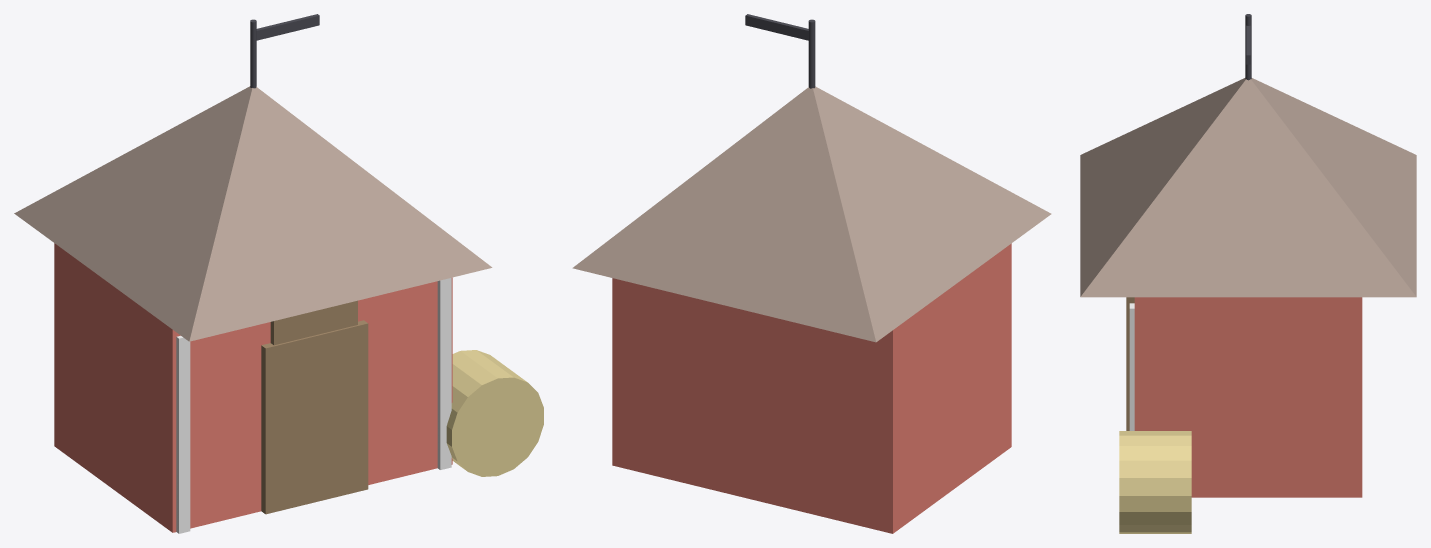
The model's file is barn.glb.
3 views of the same model, side by side, from view 1: azimuth 30°, elevation 25°; view 2: azimuth 150°, elevation 25°; view 3: azimuth 270°, elevation 25° (orthographic). The views are drawn at different scales.
Visible parts, largest first — view 1: BnRoof, BnBody, BnDoor, BnHay, BnTrim, BnTrimR, BnLoftWin, BnVaneArrow; view 2: BnBody, BnRoof, BnVaneArrow; view 3: BnRoof, BnBody, BnHay, BnTrimR, BnDoor.
Boxes of the visible parts, left/top/right/bottom form: BnRoof: left=14, top=86, right=492, bottom=341; BnBody: left=54, top=243, right=452, bottom=532; BnDoor: left=261, top=320, right=368, bottom=514; BnHay: left=446, top=350, right=543, bottom=476; BnTrim: left=176, top=335, right=190, bottom=533; BnTrimR: left=437, top=278, right=451, bottom=469; BnLoftWin: left=270, top=300, right=357, bottom=345; BnVaneArrow: left=256, top=14, right=319, bottom=40; BnBody: left=612, top=243, right=1011, bottom=533; BnRoof: left=572, top=86, right=1051, bottom=342; BnVaneArrow: left=745, top=14, right=808, bottom=40; BnRoof: left=1080, top=78, right=1416, bottom=297; BnBody: left=1134, top=297, right=1362, bottom=497; BnHay: left=1119, top=431, right=1191, bottom=533; BnTrimR: left=1129, top=303, right=1134, bottom=430; BnDoor: left=1126, top=297, right=1134, bottom=430.
Size of the model in its own units: 4.02 by 4.6 by 3.25.
